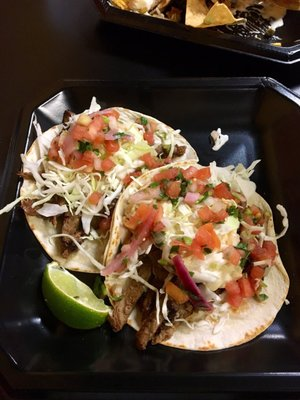sandwich: (12, 101, 290, 355)
